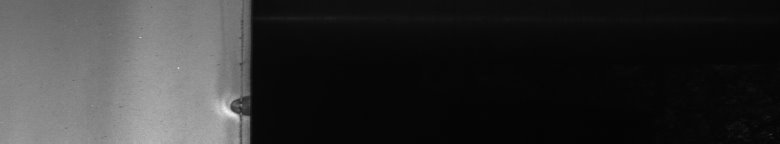hb: (212, 88, 240, 136)
